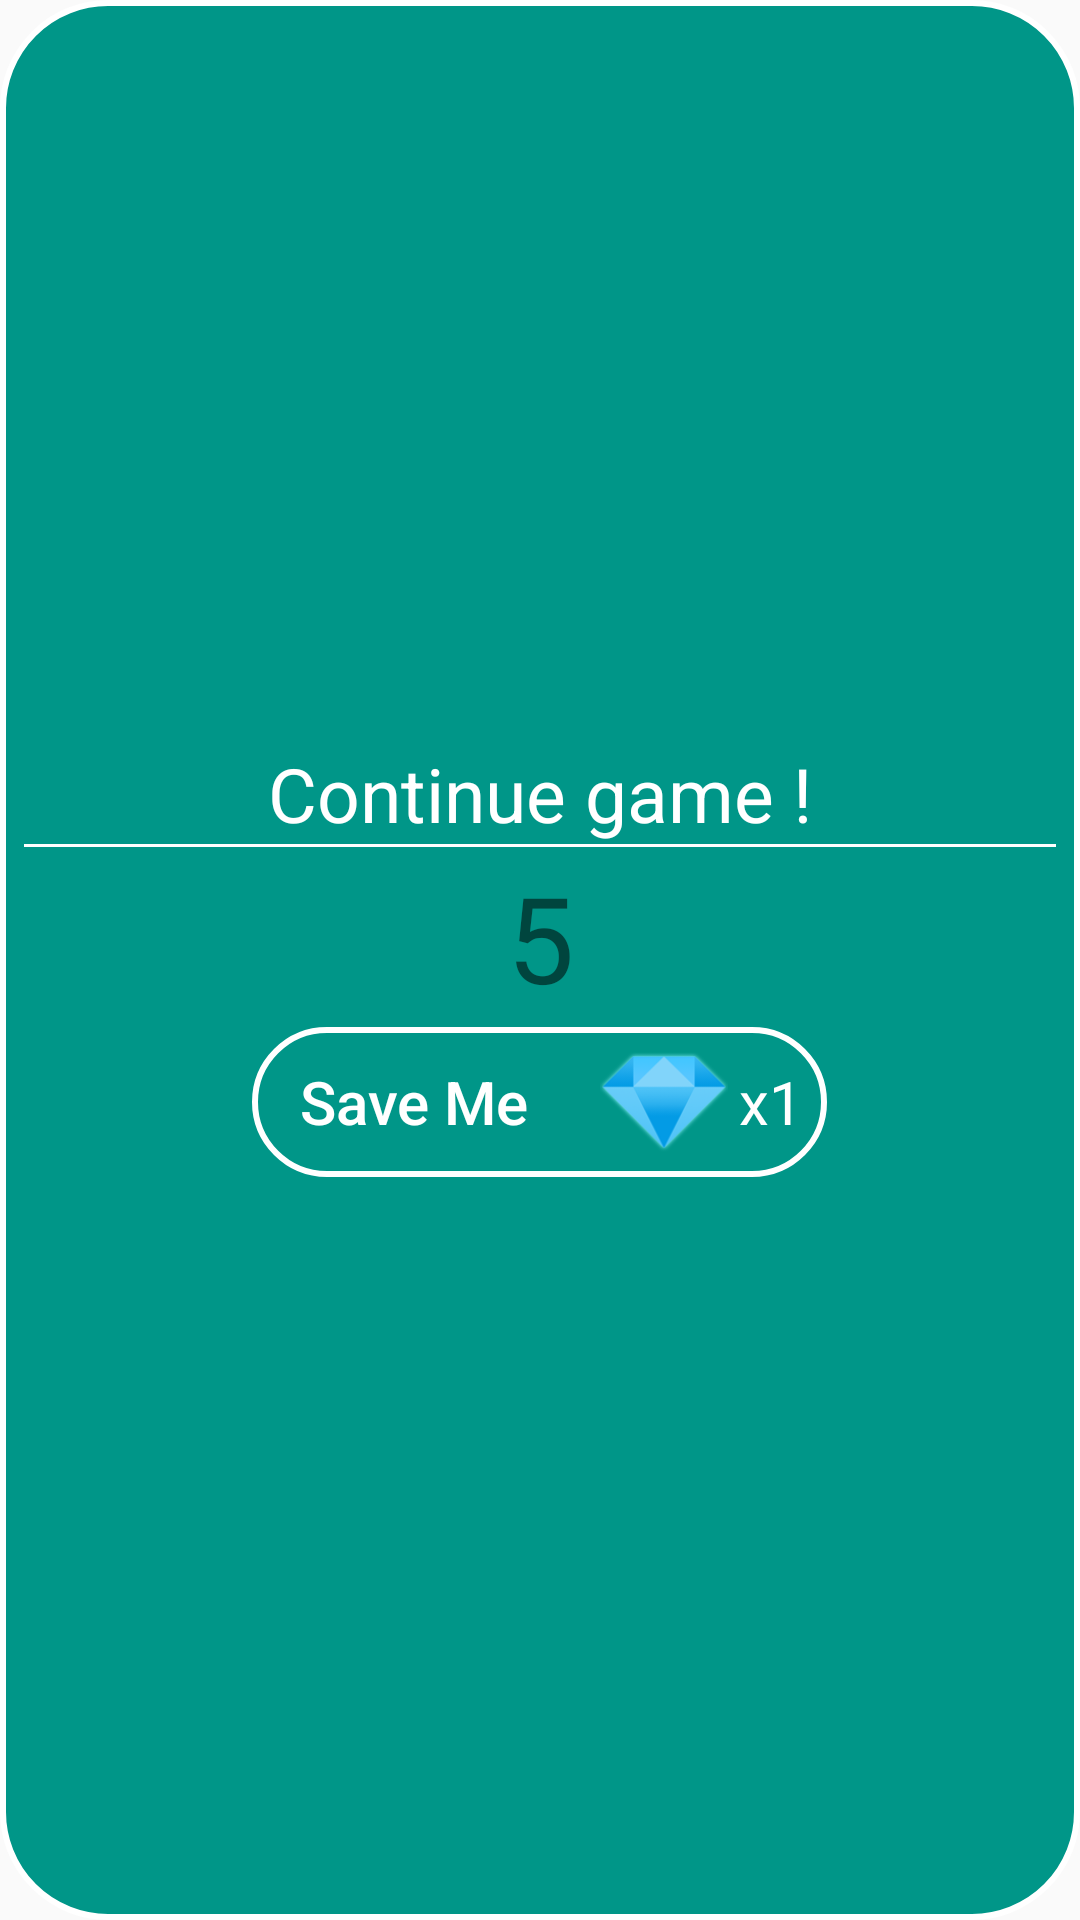

Locate icon controls on the screen. Image size 1080 × 1920, boxes as (x1, y1, x2, y2).
diamond: (602, 1054, 726, 1149)
